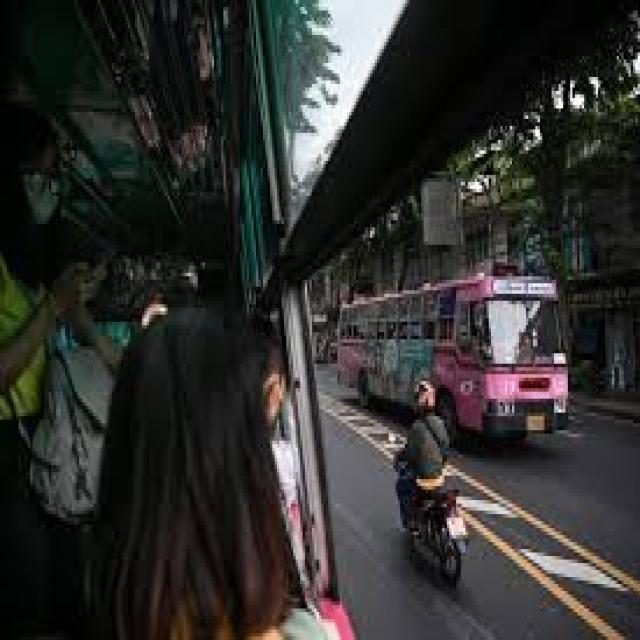bodaboda: (378, 482, 498, 595)
bus: (452, 258, 582, 447)
